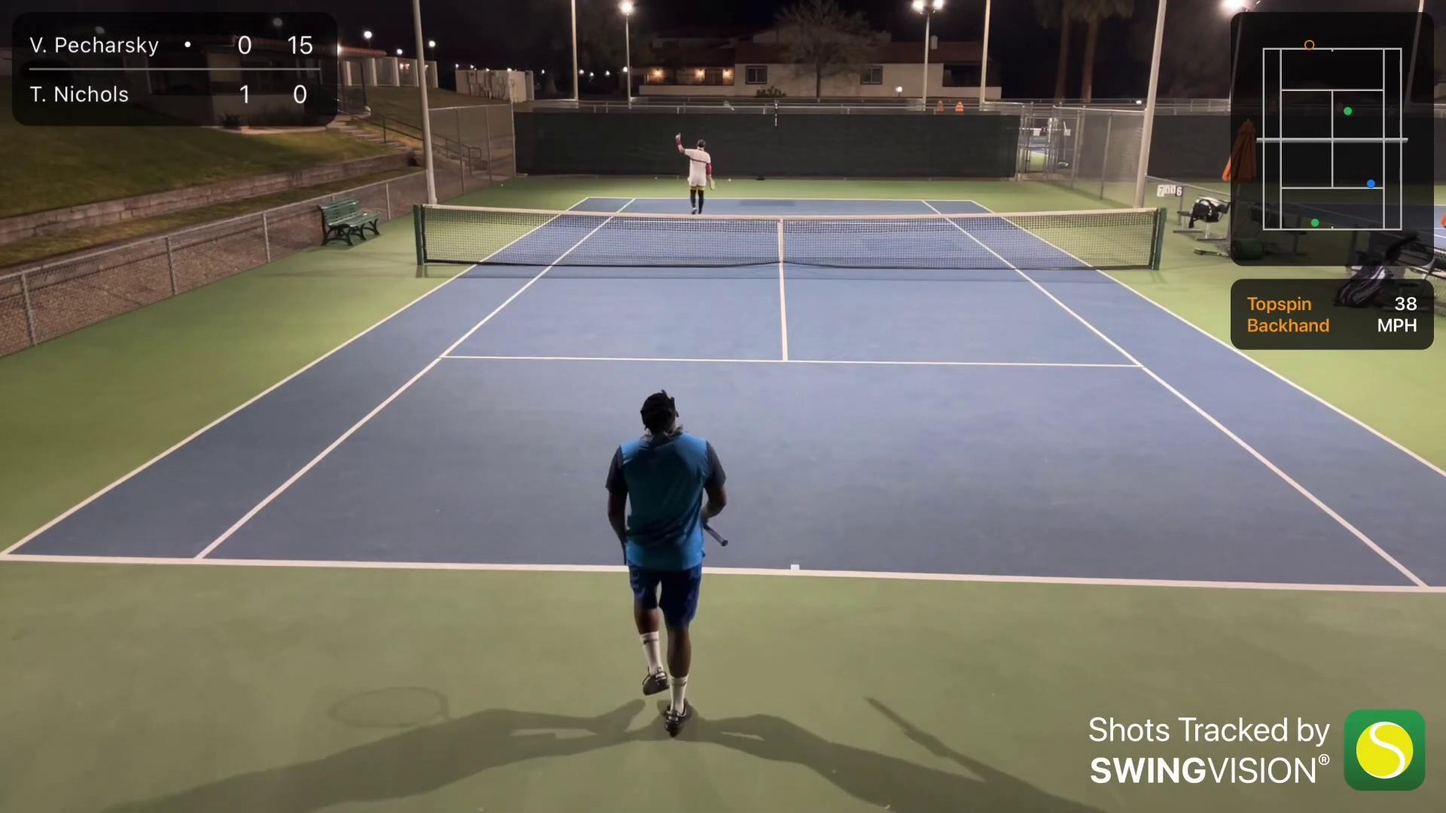ball: (498, 182, 508, 189), (728, 176, 735, 184), (653, 176, 660, 181)
